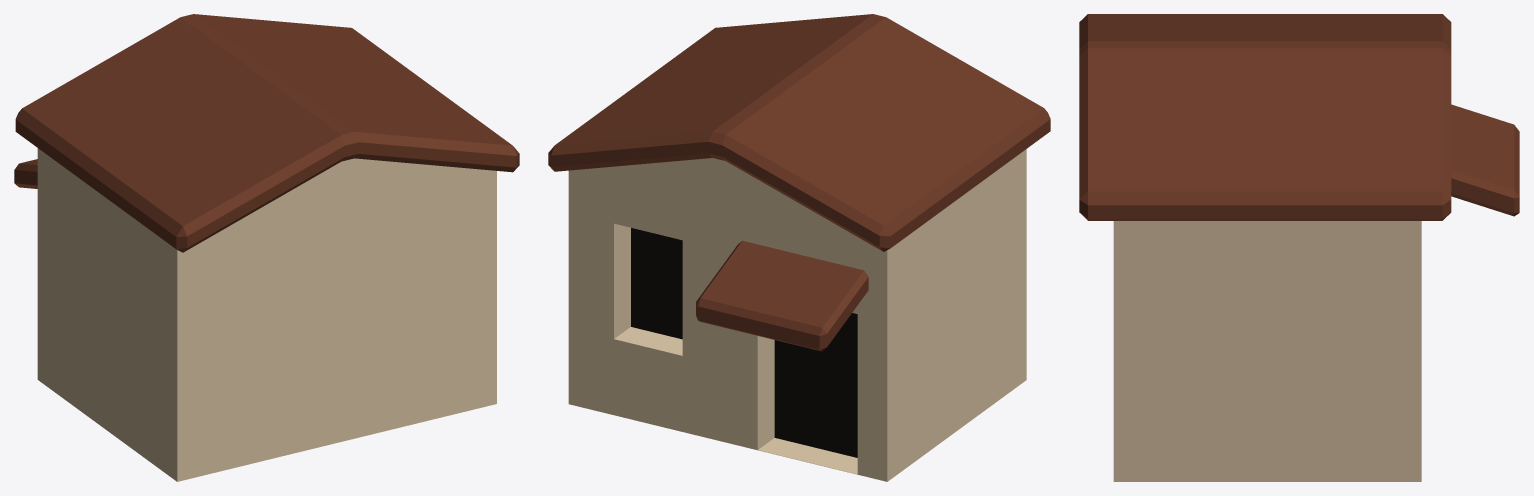
Rendered from house.gltf.
The picture shows the model from 3 angles, left to right: view 1: azimuth 30°, elevation 25°; view 2: azimuth 150°, elevation 25°; view 3: azimuth 270°, elevation 25°; orthographic projection. The views are drawn at different scales.
Visible parts, largest first — view 1: Cube, Cube.001, Cube.002; view 2: Cube, Cube.001, Plane, Cube.002; view 3: Cube, Cube.001, Cube.002.
Part boxes in pixels (bbox=[...]): Cube: bbox=[37, 148, 496, 481]; Cube.001: bbox=[15, 14, 519, 252]; Cube.002: bbox=[14, 159, 37, 188]; Cube: bbox=[568, 149, 1026, 481]; Cube.001: bbox=[548, 14, 1050, 251]; Plane: bbox=[631, 228, 857, 457]; Cube.002: bbox=[696, 240, 868, 351]; Cube: bbox=[1113, 221, 1421, 481]; Cube.001: bbox=[1079, 14, 1451, 220]; Cube.002: bbox=[1451, 104, 1519, 216].
Size of the model in its own units: 2.15 by 1.92 by 2.17.
